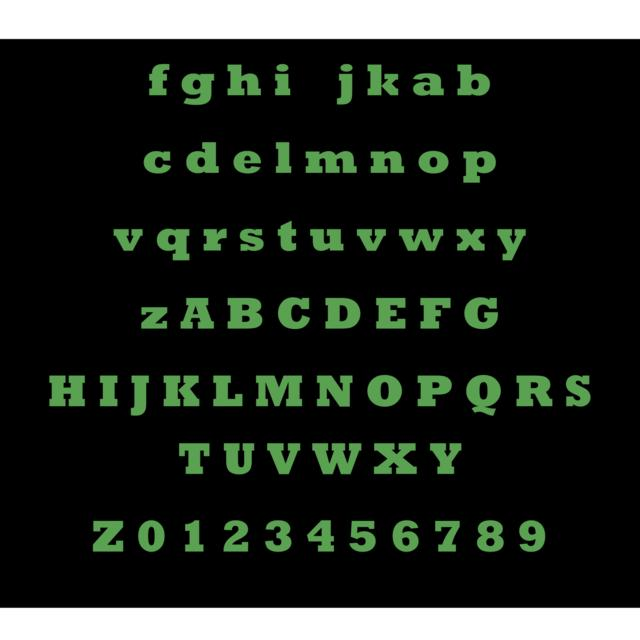alphabet: (254, 372, 306, 408), (310, 441, 362, 476), (464, 374, 504, 419), (511, 372, 556, 412), (369, 441, 420, 476), (160, 371, 204, 411), (300, 147, 359, 176), (413, 371, 455, 411), (172, 438, 212, 478), (311, 374, 358, 408), (224, 294, 264, 333), (368, 294, 408, 333), (460, 293, 501, 331), (177, 294, 217, 332), (49, 373, 90, 410), (397, 224, 447, 254), (461, 147, 499, 186), (156, 226, 196, 263), (364, 61, 402, 99), (184, 139, 222, 177), (416, 295, 454, 332), (454, 63, 493, 99), (263, 442, 304, 476), (224, 63, 265, 97), (366, 374, 404, 410), (221, 440, 257, 476), (428, 440, 464, 476), (90, 518, 126, 554), (179, 72, 216, 107), (124, 372, 152, 418), (276, 297, 312, 332), (260, 518, 294, 554), (495, 225, 527, 262), (366, 148, 408, 176), (210, 374, 244, 408), (139, 145, 174, 178), (136, 518, 166, 556), (432, 518, 462, 556), (108, 224, 146, 253), (145, 61, 174, 98), (200, 221, 230, 256), (476, 519, 506, 554), (326, 299, 363, 327), (332, 61, 355, 106), (135, 303, 170, 332), (224, 520, 252, 556), (95, 372, 120, 412), (390, 520, 419, 554), (307, 518, 335, 553), (309, 226, 346, 252), (415, 149, 452, 175), (348, 519, 376, 552), (518, 520, 546, 553), (411, 72, 444, 100), (230, 149, 264, 176), (354, 226, 388, 253), (454, 226, 488, 252), (272, 63, 293, 100), (272, 139, 294, 174), (183, 520, 206, 552), (238, 226, 265, 253), (276, 222, 298, 253), (305, 154, 325, 176)
